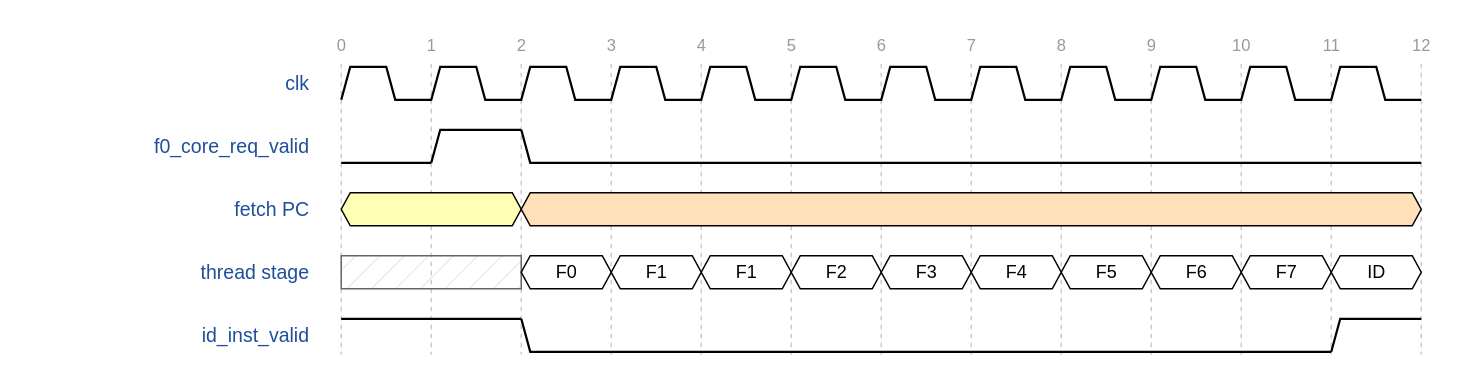
This 1469x383 diagram has some shape labels left out. The shapes that lost their labels are listed below. From the top down, each one's box as (x1, y1, x2, y2) in pixels, then its label:
(340, 191, 521, 226): old
(520, 191, 1421, 226): target
